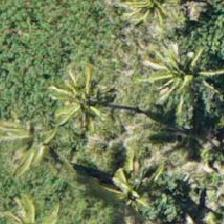coconut_tree: (133, 22, 223, 112), (34, 45, 124, 135), (0, 88, 75, 178)
